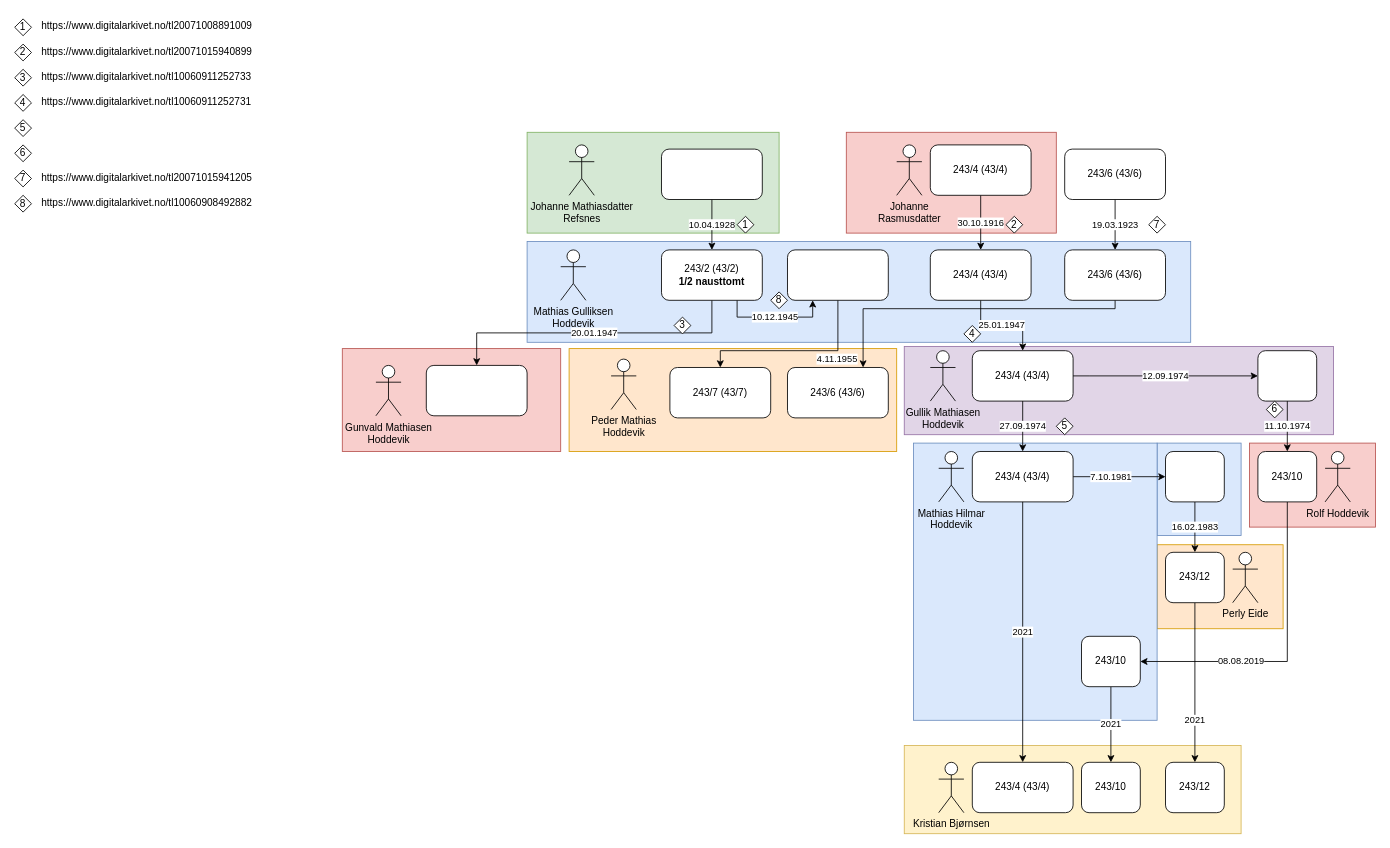
Some shapes in this 1390 by 848 pixel diagram are drawn without their labels. Here are the shapes that lost their labels. From the top down, the centre of each, then its label:
the point at 711,174: 243/2 (43/2) Halv nausttomt
the point at 837,274: Fradelt fra 243/2: 243/7 (43/7)
the point at 476,390: 243/2 (43/2) 1/4 nausttomt
the point at 1287,375: Fradelt: 243/10
the point at 1194,476: Fradelt: 243/12
